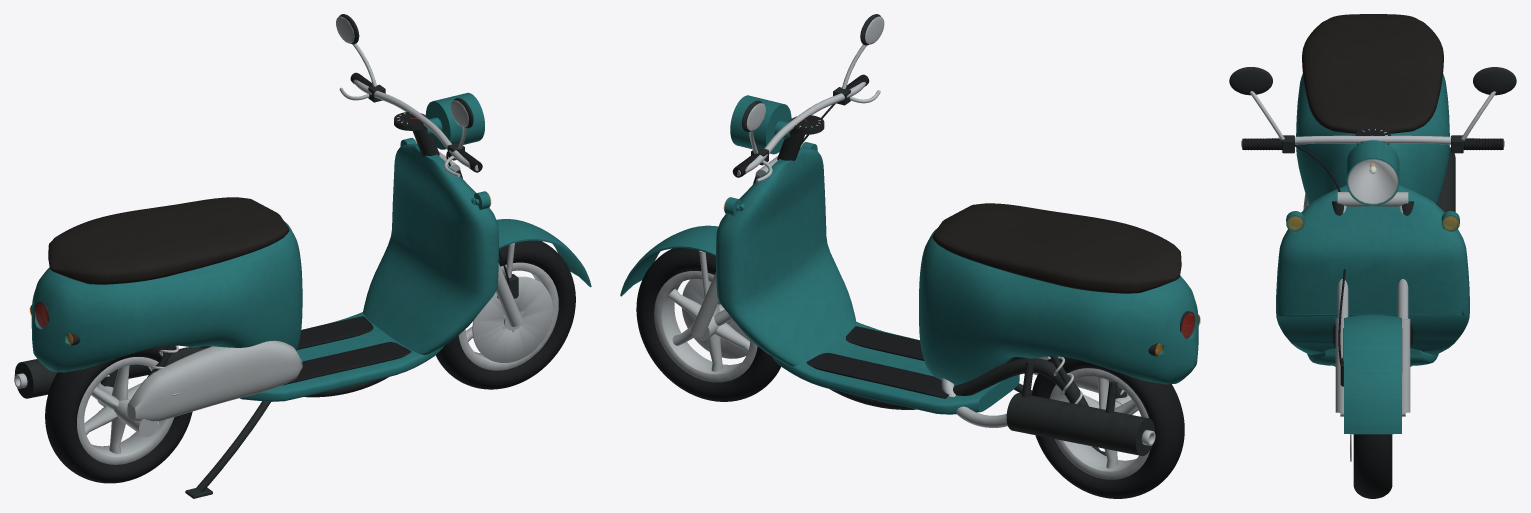
Rendered from scooter.glb.
The picture shows the model from 3 angles, left to right: view 1: azimuth 30°, elevation 25°; view 2: azimuth 150°, elevation 25°; view 3: azimuth 270°, elevation 25°; orthographic projection. The views are drawn at different scales.
Parts seen in each view (by area): view 1: Scooter closed step-through footboard, Scooter cast automatic transmission case, Scooter front brake hose, Scooter shaped two-person saddle, Scooter brake lever 1, Scooter control switch housing 1; view 2: Scooter closed step-through footboard, Scooter front brake hose, Scooter shaped two-person saddle, Scooter control switch housing 1, Scooter cast automatic transmission case, Scooter brake lever 1; view 3: Scooter closed step-through footboard, Scooter shaped two-person saddle, Scooter brake lever 1, Scooter front brake hose, Scooter control switch housing 1, Scooter cast automatic transmission case, Scooter headlamp finite curved optic, Scooter front indicator 1 finite curved optic.
Boxes of the visible parts, x1=… form: Scooter closed step-through footboard: x1=31, y1=92, x2=591, y2=401; Scooter cast automatic transmission case: x1=77, y1=143, x2=558, y2=464; Scooter front brake hose: x1=45, y1=72, x2=575, y2=483; Scooter shaped two-person saddle: x1=48, y1=197, x2=289, y2=284; Scooter brake lever 1: x1=14, y1=16, x2=552, y2=389; Scooter control switch housing 1: x1=14, y1=14, x2=518, y2=498; Scooter closed step-through footboard: x1=620, y1=95, x2=1198, y2=414; Scooter front brake hose: x1=636, y1=74, x2=1184, y2=498; Scooter shaped two-person saddle: x1=932, y1=203, x2=1181, y2=293; Scooter control switch housing 1: x1=742, y1=14, x2=1199, y2=455; Scooter cast automatic transmission case: x1=654, y1=147, x2=1149, y2=479; Scooter brake lever 1: x1=682, y1=16, x2=1155, y2=445; Scooter closed step-through footboard: x1=1276, y1=73, x2=1469, y2=434; Scooter shaped two-person saddle: x1=1302, y1=14, x2=1443, y2=133; Scooter brake lever 1: x1=1241, y1=67, x2=1504, y2=461; Scooter front brake hose: x1=1242, y1=138, x2=1503, y2=498; Scooter control switch housing 1: x1=1229, y1=67, x2=1516, y2=386; Scooter cast automatic transmission case: x1=1303, y1=192, x2=1410, y2=412; Scooter headlamp finite curved optic: x1=1347, y1=159, x2=1398, y2=205; Scooter front indicator 1 finite curved optic: x1=1287, y1=216, x2=1458, y2=231.
Size of the model in its own units: 1.9 by 1.17 by 0.8139.
Materials: 13 (10 with a texture image).
